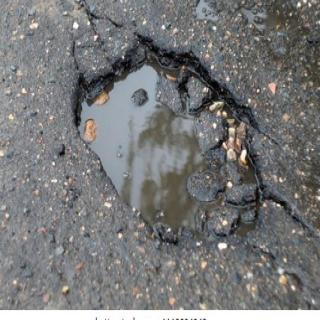pothole: (73, 33, 268, 247)
